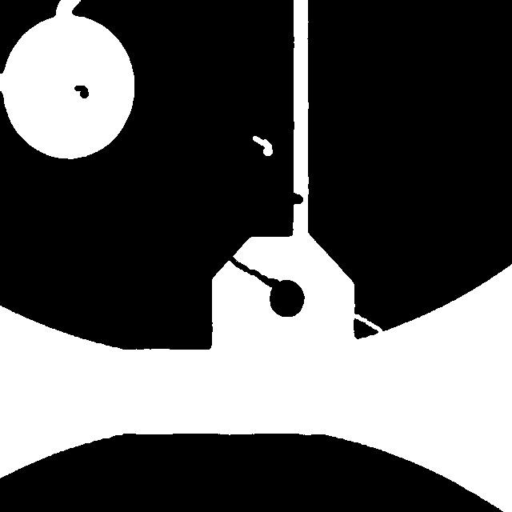copper: (66, 78, 96, 106)
open: (337, 304, 394, 346)
pin-hole: (245, 128, 280, 163)
short: (218, 248, 288, 296)
spur: (278, 183, 310, 213)
